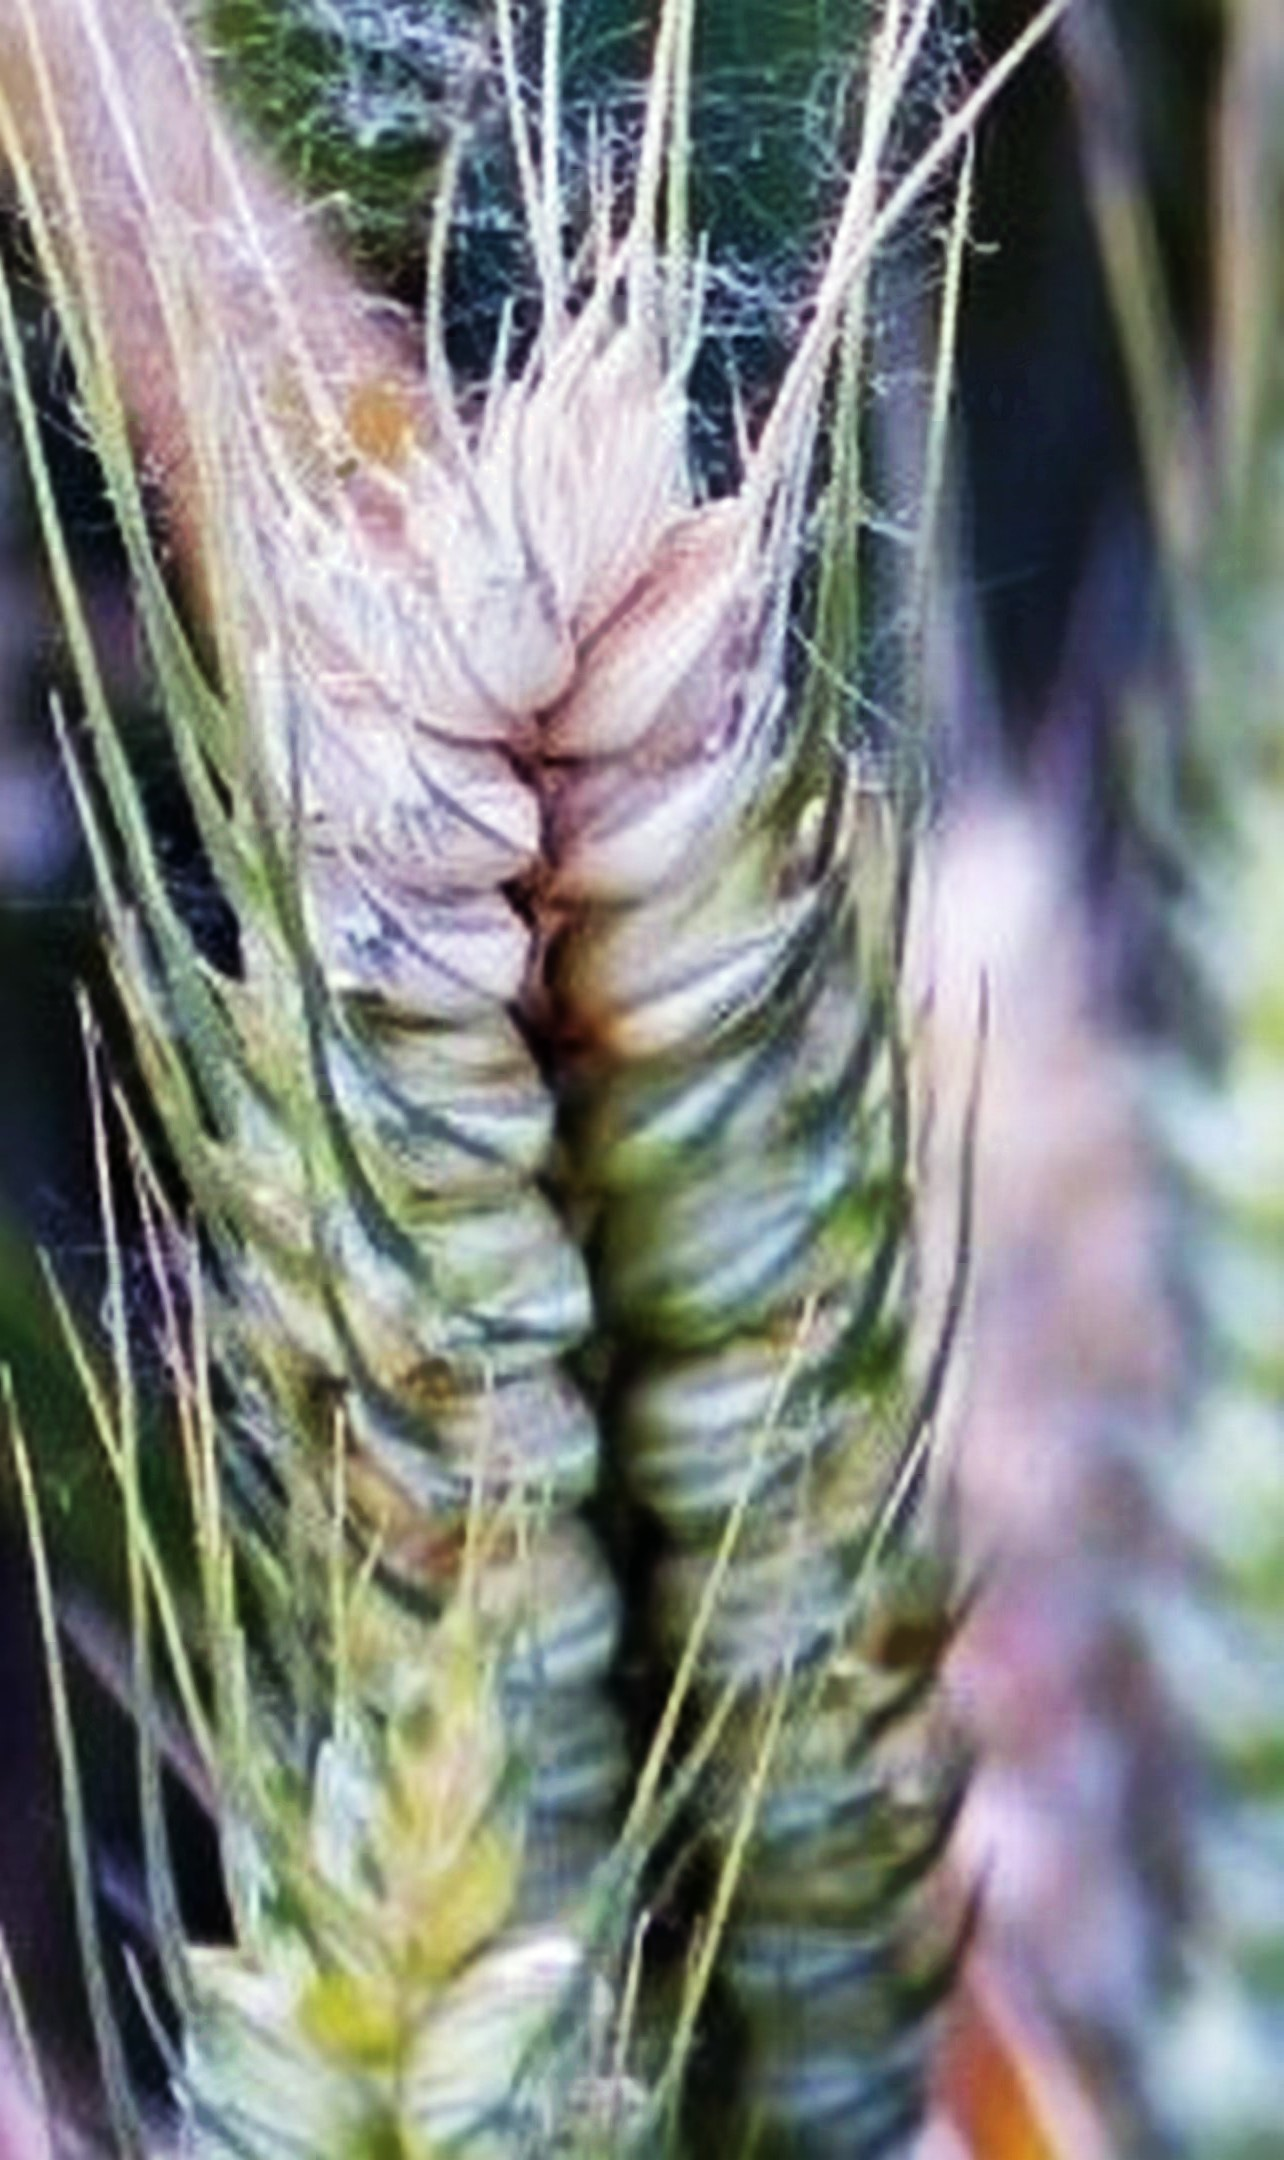Wheat scab: (186, 275, 992, 2064)
